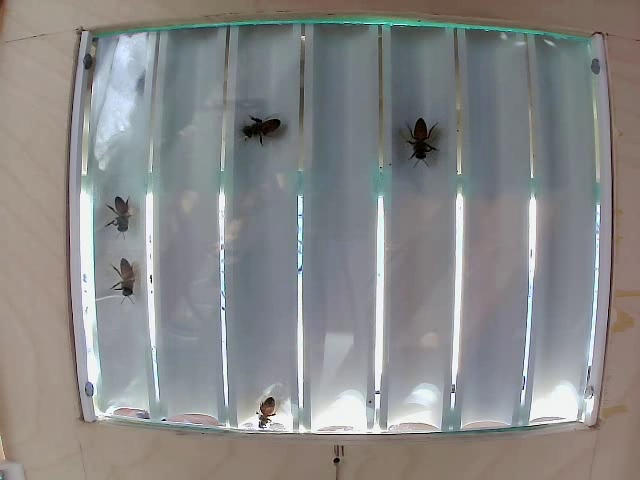bee: (400, 127, 449, 187), (252, 106, 288, 156), (101, 196, 146, 232), (106, 266, 143, 295)
